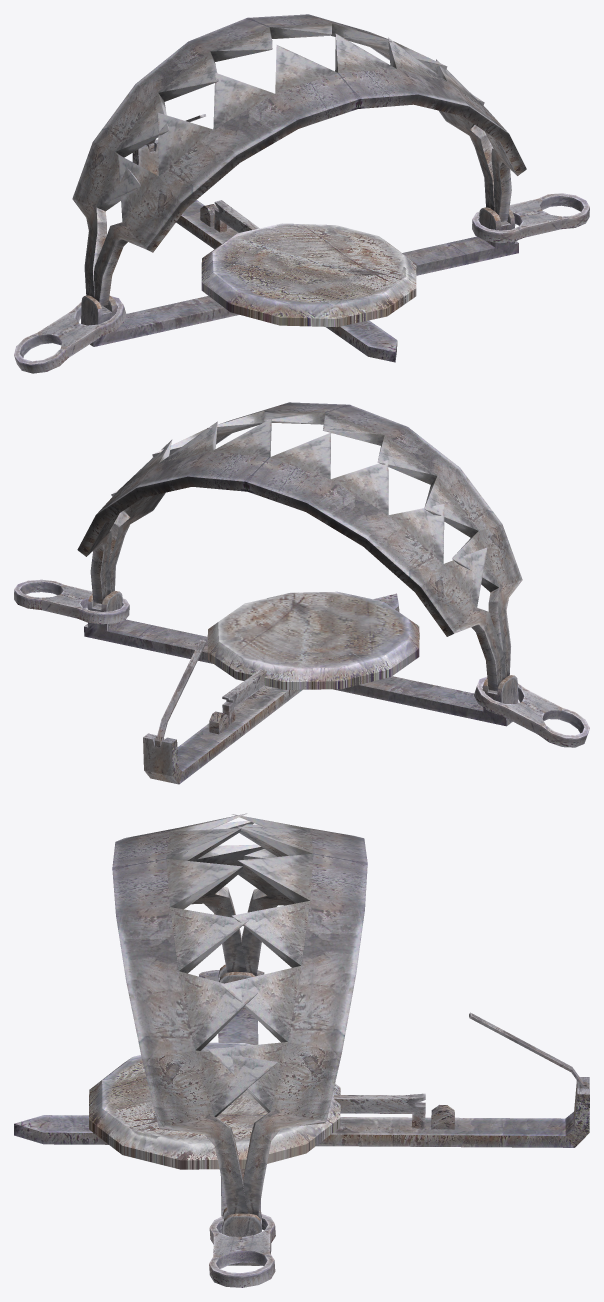
The picture shows the model from 3 angles, top to bottom: view 1: azimuth 30°, elevation 25°; view 2: azimuth 150°, elevation 25°; view 3: azimuth 270°, elevation 25°; orthographic projection. The views are drawn at different scales.
Parts seen in each view (by area): view 1: Trap_LeftSide, Trap_Center, Trap_RightSide, Trap_Cross, Trap_1, Trap_4; view 2: Trap_RightSide, Trap_Center, Trap_LeftSide, Trap_Cross, Trap_1, Trap_4, Trap_3; view 3: Trap_LeftSide, Trap_RightSide, Trap_Cross, Trap_Center, Trap_1, Trap_4, Trap_3.
Boxes of the visible parts, x1,y1,x2,y2 form: Trap_LeftSide: [94, 33, 526, 306]; Trap_Center: [201, 223, 416, 327]; Trap_RightSide: [72, 14, 494, 298]; Trap_Cross: [81, 139, 518, 362]; Trap_1: [14, 193, 589, 373]; Trap_4: [214, 200, 259, 232]; Trap_RightSide: [77, 418, 505, 691]; Trap_Center: [207, 591, 419, 689]; Trap_LeftSide: [108, 402, 522, 677]; Trap_Cross: [84, 591, 518, 784]; Trap_1: [14, 579, 589, 747]; Trap_4: [222, 669, 266, 724]; Trap_3: [157, 639, 206, 743]; Trap_LeftSide: [112, 813, 277, 1214]; Trap_RightSide: [208, 814, 367, 1216]; Trap_Cross: [14, 964, 589, 1265]; Trap_Center: [89, 1042, 340, 1169]; Trap_1: [199, 970, 275, 1287]; Trap_4: [334, 1093, 425, 1128]; Trap_3: [469, 1012, 585, 1088].
Bounding box in the file's own units: 150 × 64.94 × 111.
Materials: 1 (1 with a texture image).
